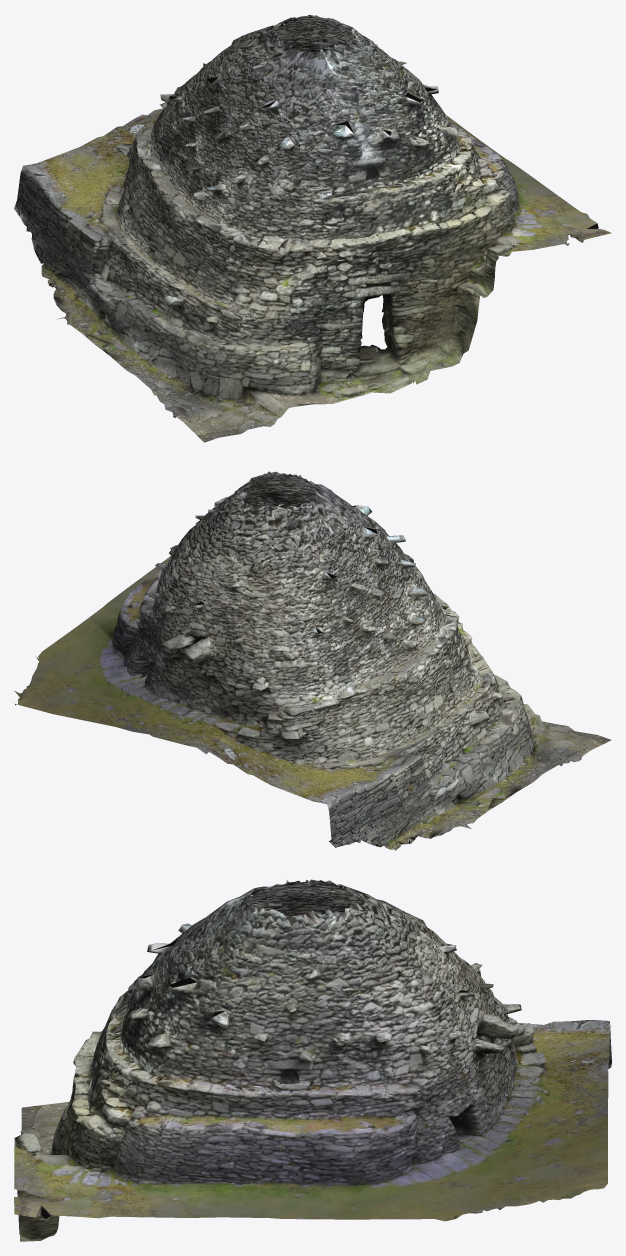
The model's file is jedihut.glb.
3 renders of one model, top to bottom at view 1: azimuth 30°, elevation 25°; view 2: azimuth 150°, elevation 25°; view 3: azimuth 270°, elevation 25°, orthographic. The views are drawn at different scales.
Parts seen in each view (by area): view 1: Object_2; view 2: Object_2; view 3: Object_2.
Part boxes in pixels (x1,y1,x2,y2): Object_2: (14, 14, 611, 442); Object_2: (14, 471, 611, 850); Object_2: (14, 879, 611, 1241).
Size of the model in its own units: 4 by 2.6 by 4.
1 material, 1 textured.
